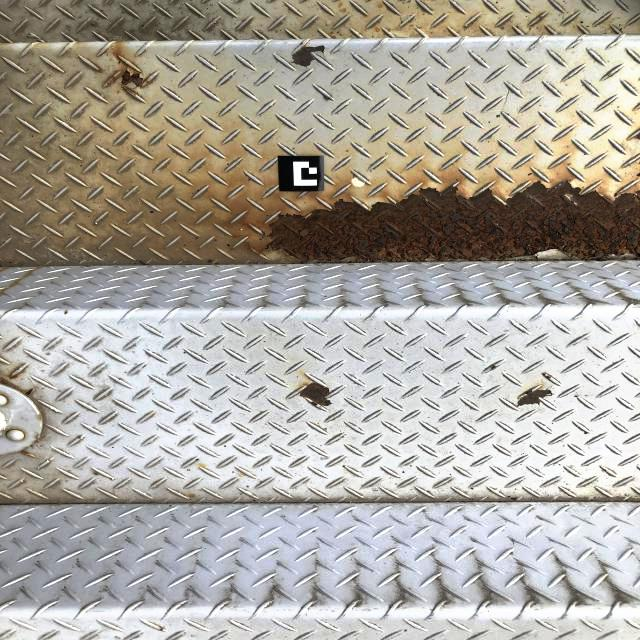Corrosion: (265, 181, 640, 263), (300, 383, 332, 406), (292, 45, 325, 67), (517, 390, 553, 407), (121, 70, 143, 87), (0, 378, 16, 388), (20, 450, 34, 459), (23, 387, 34, 397), (9, 374, 20, 380), (545, 374, 552, 379), (491, 366, 499, 370), (544, 372, 548, 378), (159, 628, 165, 631)
